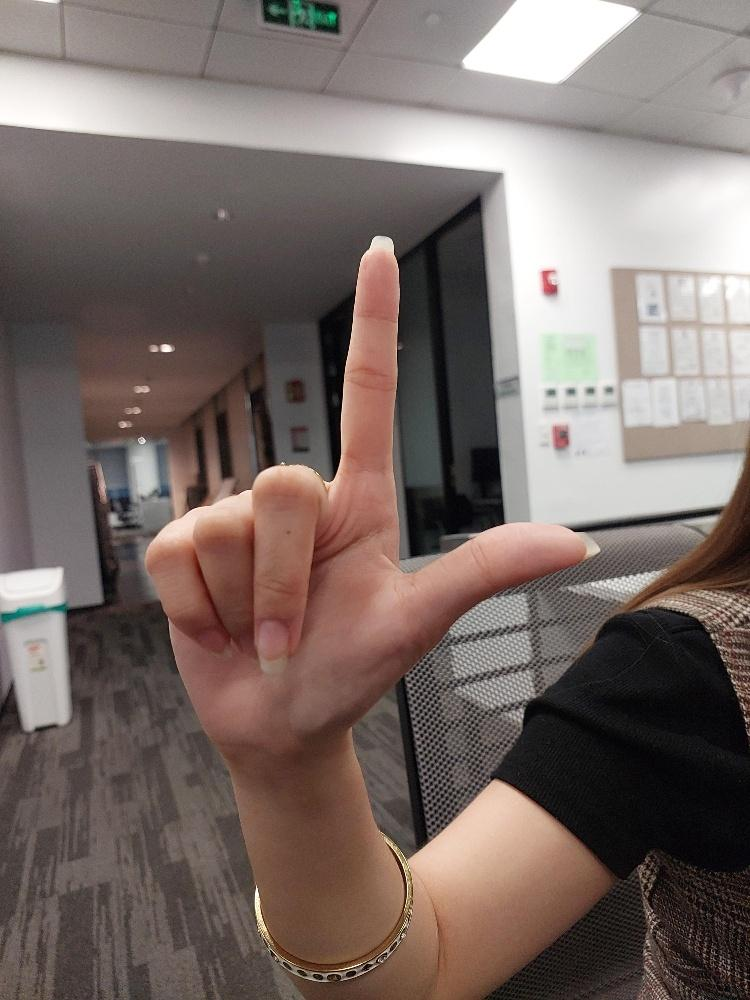l: (139, 229, 606, 754)
